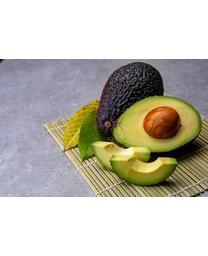avocado: (112, 95, 202, 155), (99, 62, 165, 138)
